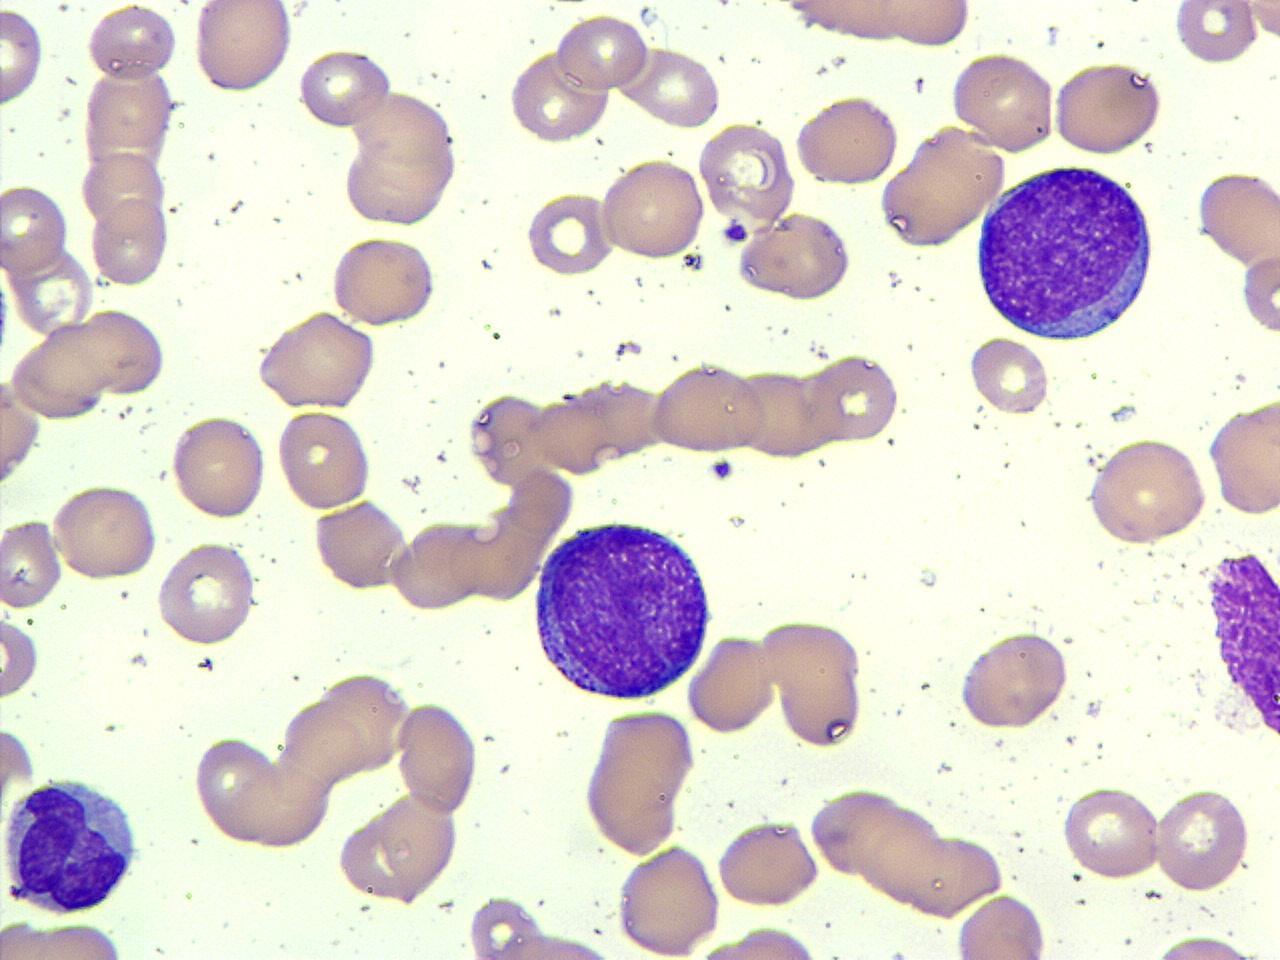Platelets: (706, 454, 736, 482), (721, 220, 751, 244), (612, 338, 642, 359), (679, 251, 703, 272)
RBC: (580, 704, 698, 858), (882, 124, 1006, 249), (857, 822, 1011, 918), (1084, 434, 1210, 547), (760, 616, 866, 748), (203, 750, 334, 851), (254, 308, 378, 412), (614, 841, 724, 958), (956, 628, 1071, 732), (648, 359, 770, 456), (597, 156, 708, 262), (155, 536, 260, 648), (948, 50, 1058, 154), (1050, 58, 1166, 156), (49, 480, 159, 582), (733, 212, 853, 305), (1152, 786, 1254, 894), (170, 412, 270, 523), (329, 232, 440, 328), (696, 120, 799, 222), (276, 406, 375, 512), (1058, 784, 1162, 883), (793, 92, 902, 187), (394, 696, 480, 816), (506, 49, 614, 144), (684, 630, 778, 738), (190, 1, 296, 96), (716, 816, 822, 910), (340, 139, 454, 227), (190, 732, 280, 842), (63, 307, 170, 398), (310, 498, 410, 594), (374, 788, 460, 896), (1206, 394, 1280, 519), (804, 352, 901, 446), (737, 364, 828, 462), (5, 242, 95, 339), (1195, 167, 1279, 270), (349, 89, 458, 167), (624, 44, 723, 130), (552, 10, 652, 95), (296, 46, 395, 131), (524, 188, 616, 278), (466, 390, 552, 486), (88, 196, 173, 288), (336, 810, 419, 905), (388, 524, 476, 614), (86, 2, 180, 84), (968, 332, 1051, 418), (77, 149, 169, 227), (0, 179, 70, 278), (953, 890, 1050, 960), (0, 517, 63, 611), (465, 892, 548, 960), (780, 0, 910, 43), (1171, 1, 1261, 64), (0, 916, 131, 958), (688, 924, 833, 960), (478, 926, 628, 960), (871, 0, 973, 50), (0, 374, 44, 487), (0, 7, 48, 109), (0, 720, 37, 826), (1238, 249, 1280, 339), (0, 611, 42, 700), (1148, 932, 1270, 960)
WBC: (530, 512, 720, 706), (972, 157, 1162, 347), (0, 772, 146, 916), (1205, 541, 1280, 748)
